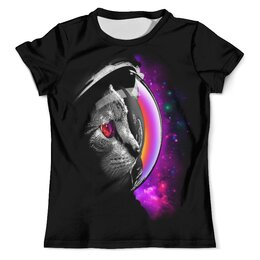cat: (79, 81, 150, 183)
